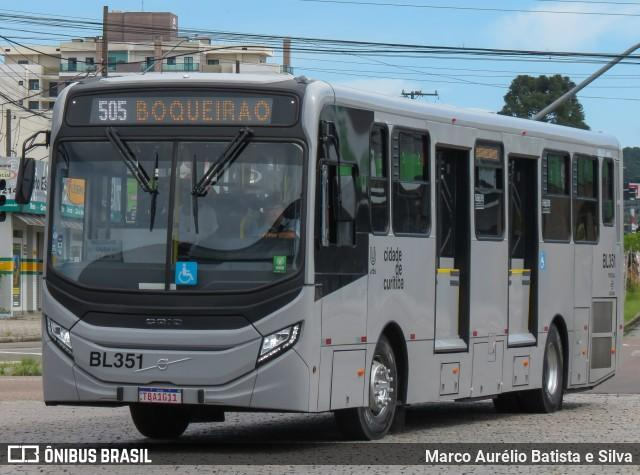BOQUEIRAO: (129, 95, 273, 124)
